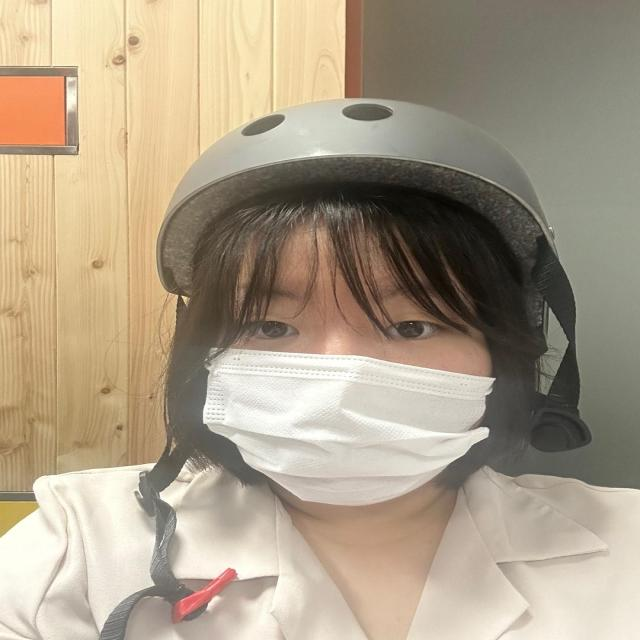Helmet: (156, 95, 555, 496)
